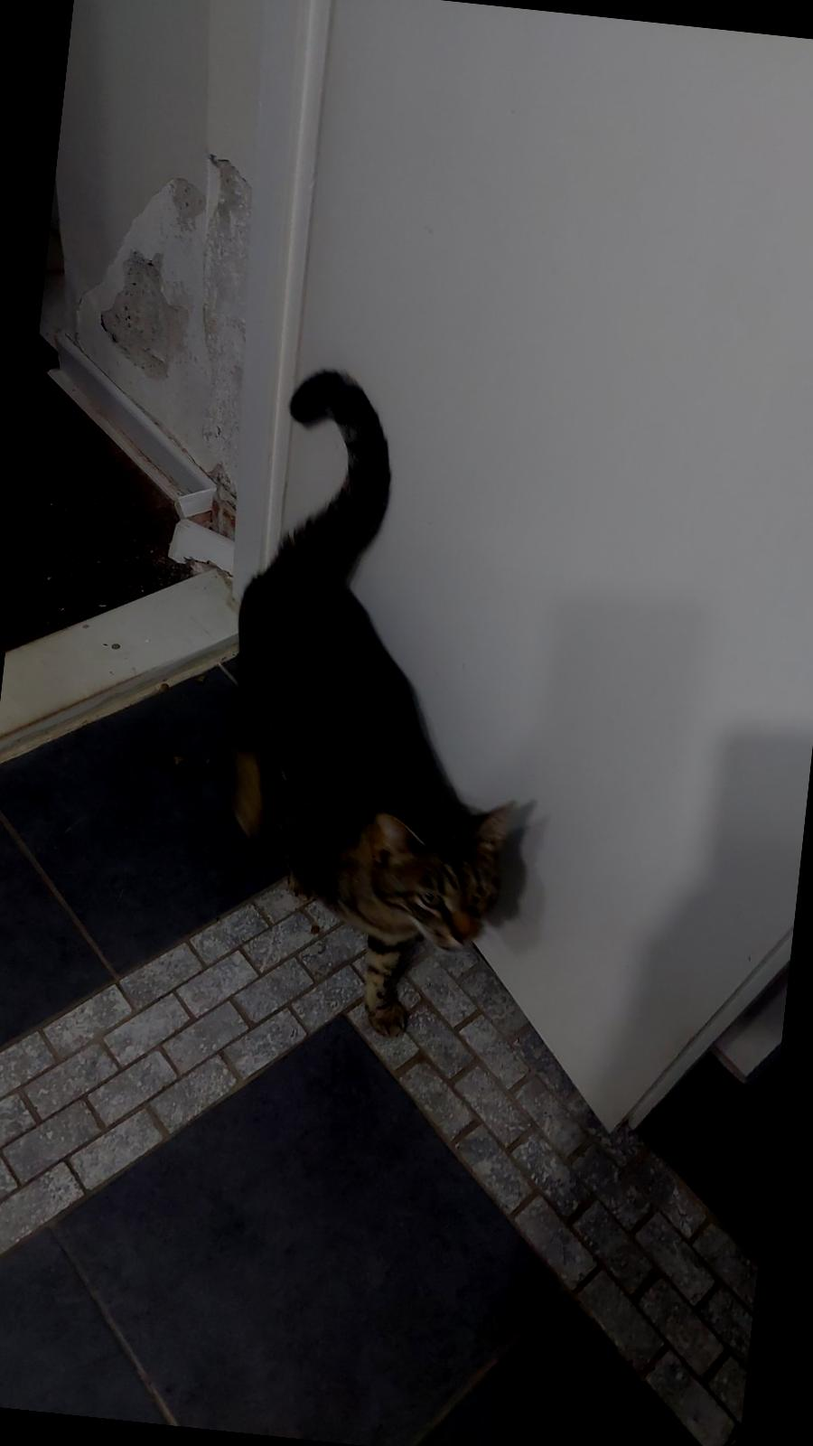macka: (191, 359, 571, 1049)
